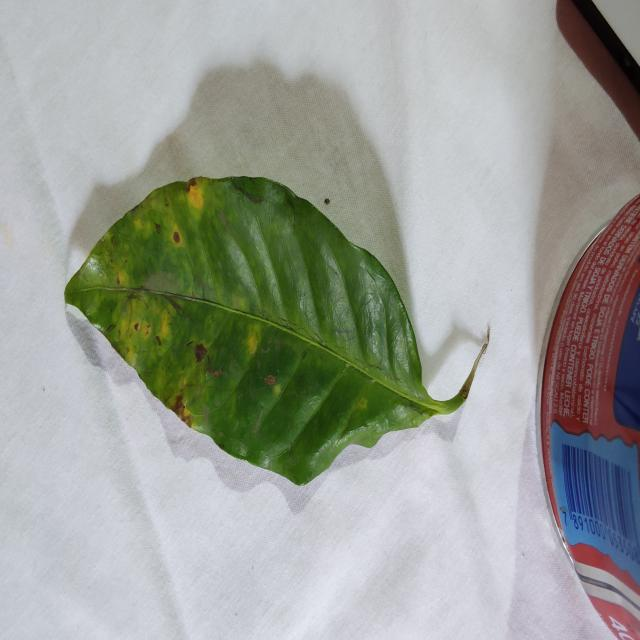Enfermedad-Roya: (62, 176, 474, 488)
